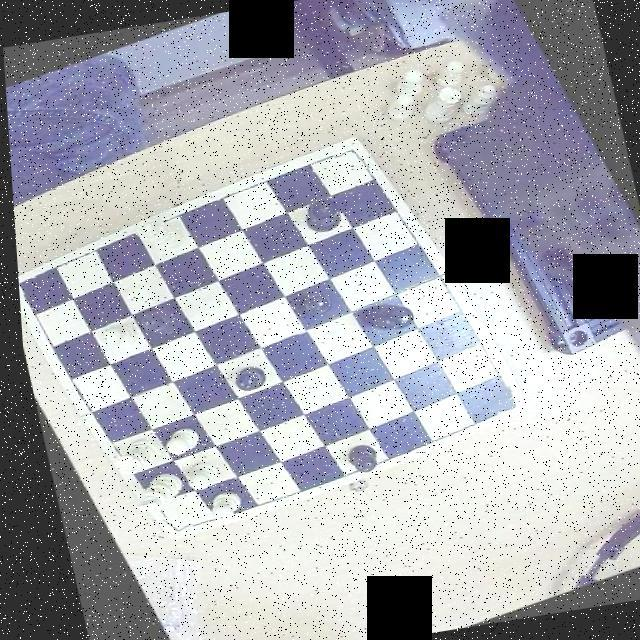chess-table-corners: (326, 136, 372, 178), (478, 379, 524, 421), (148, 508, 190, 542), (14, 268, 42, 305)
